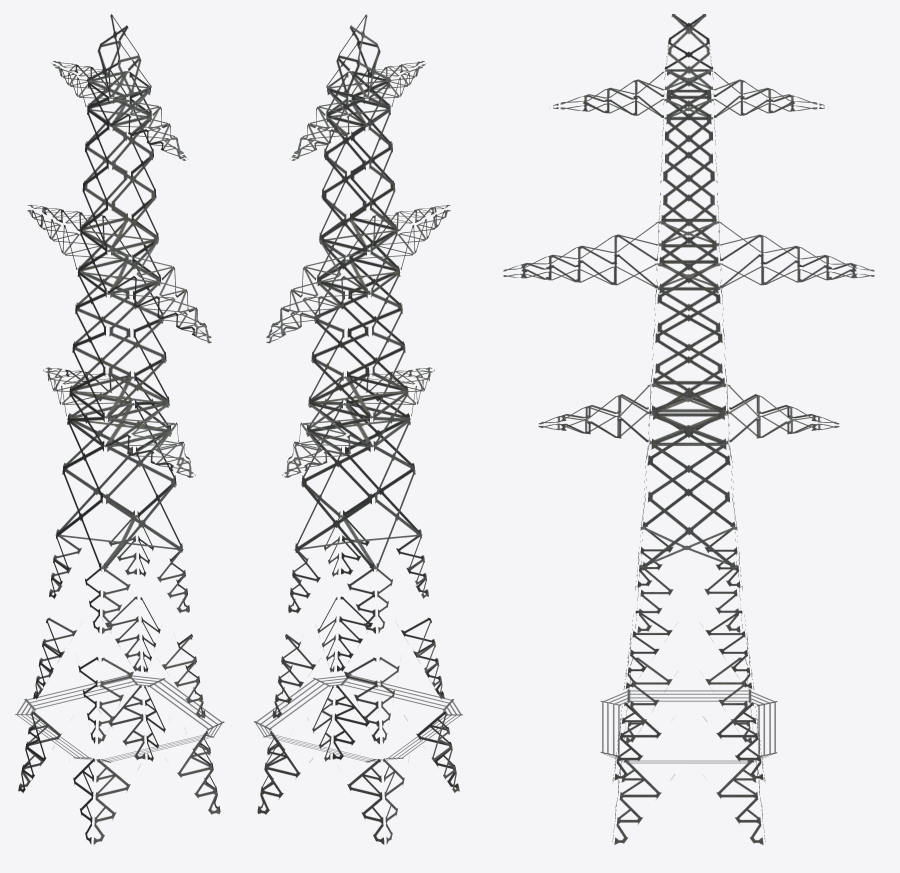
Rendered from object_82_lev2.glb.
3 views of the same model, side by side, from view 1: azimuth 30°, elevation 25°; view 2: azimuth 150°, elevation 25°; view 3: azimuth 270°, elevation 25° (orthographic). The views are drawn at different scales.
Visible parts, largest first — view 1: object_82_lev2; view 2: object_82_lev2; view 3: object_82_lev2.
Boxes of the visible parts, <box> form: object_82_lev2: <box>15,14,224,844</box>; object_82_lev2: <box>254,14,462,844</box>; object_82_lev2: <box>503,14,874,844</box>.
Bounding box in the file's own units: 0.7857 × 3.98 × 1.75.
1 material, 1 textured.
